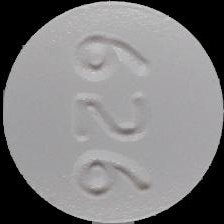68084-059: (0, 0, 224, 224)
